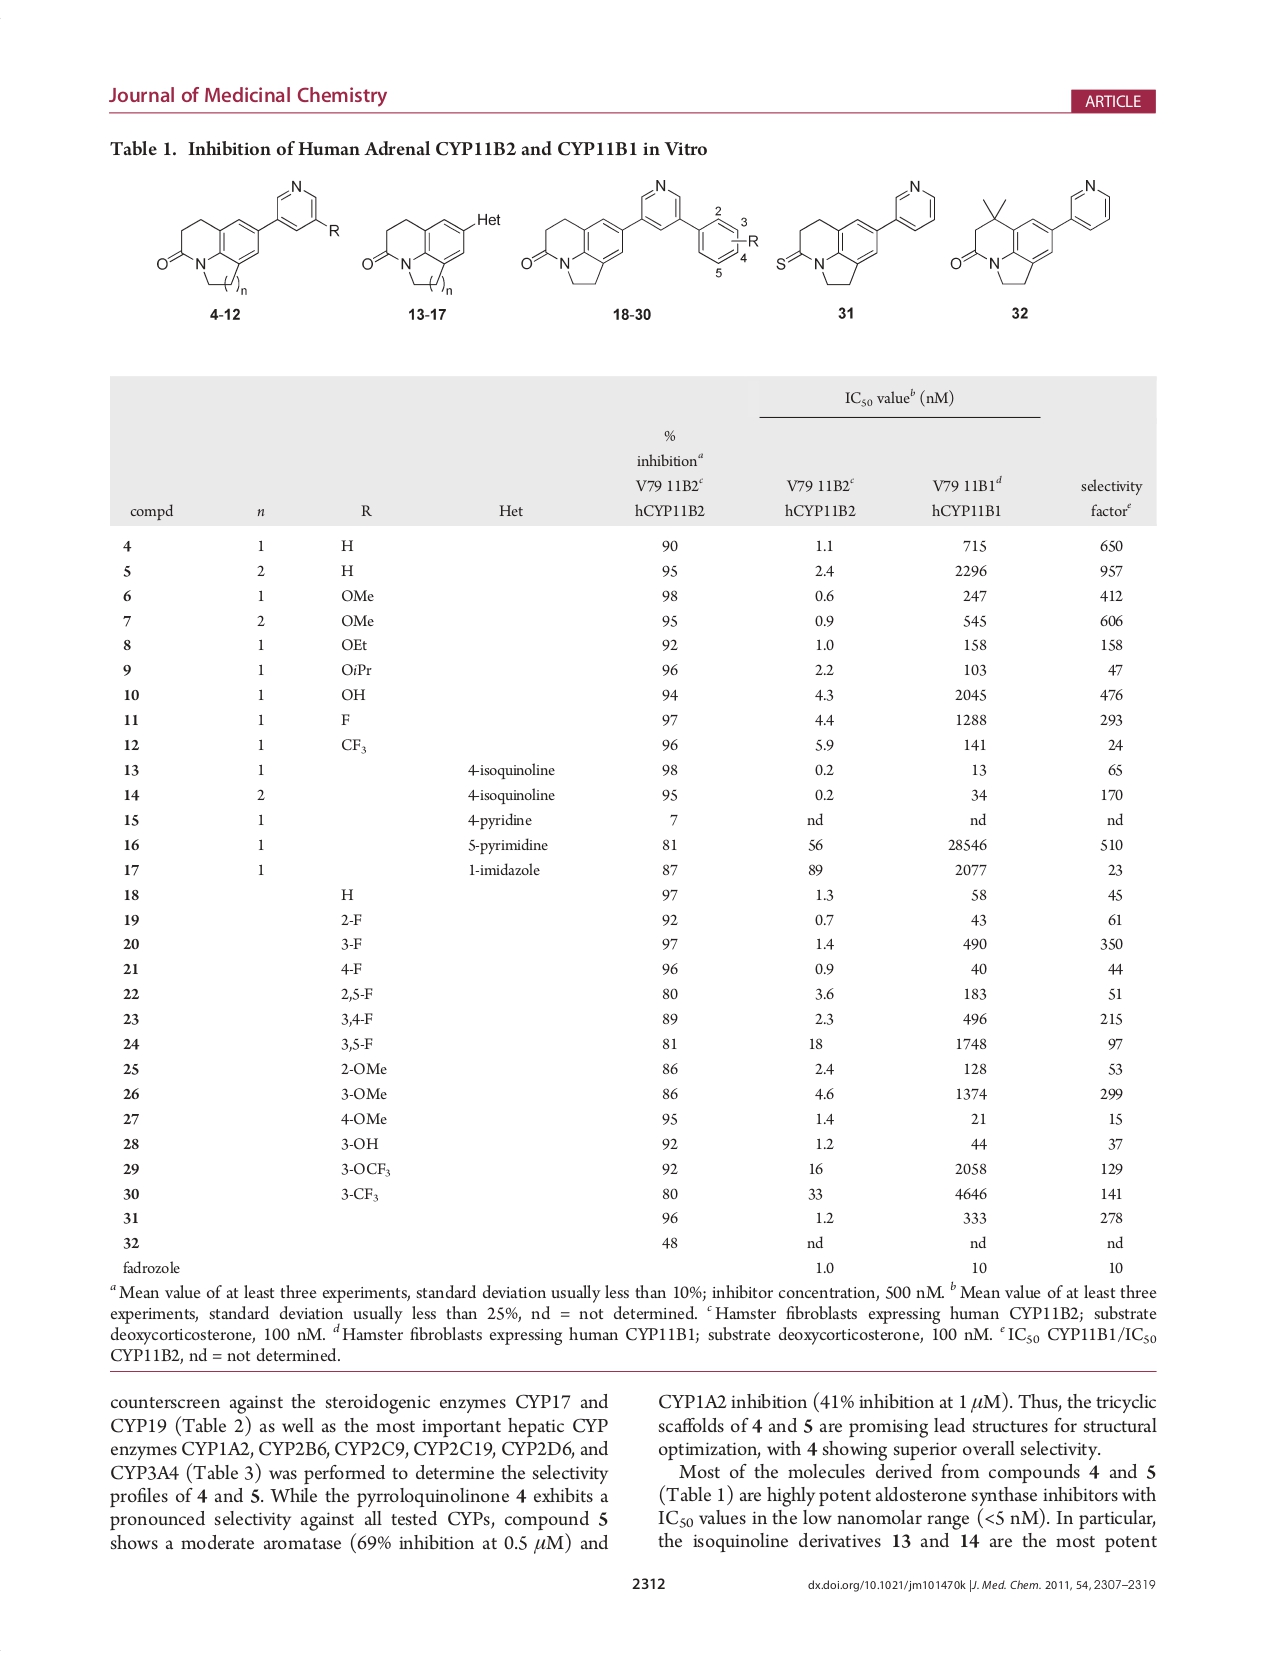exist_molecular: (521, 176, 761, 289), (148, 177, 343, 295), (948, 172, 1114, 289), (774, 173, 939, 289), (360, 210, 505, 297)
